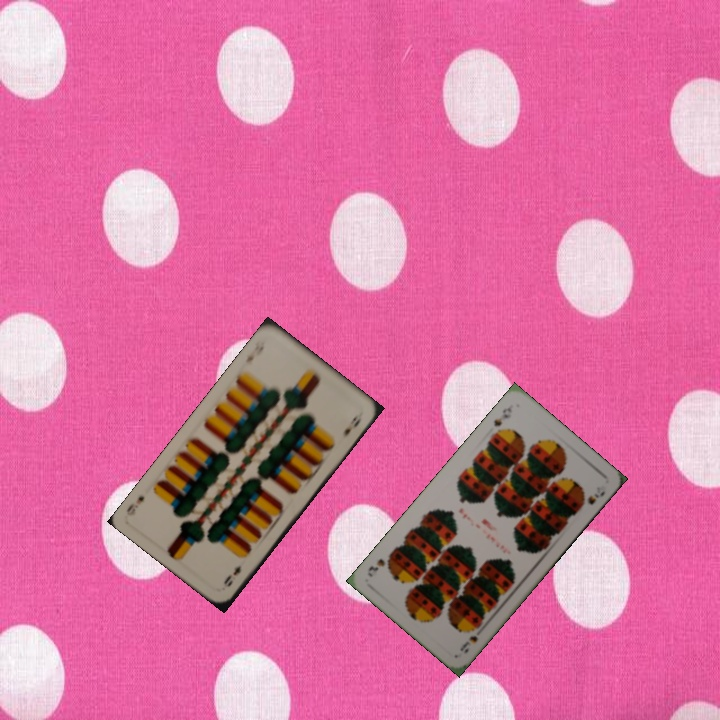E9: (241, 337, 267, 365), (219, 561, 244, 589)
S9: (489, 400, 516, 429), (455, 632, 480, 657)
